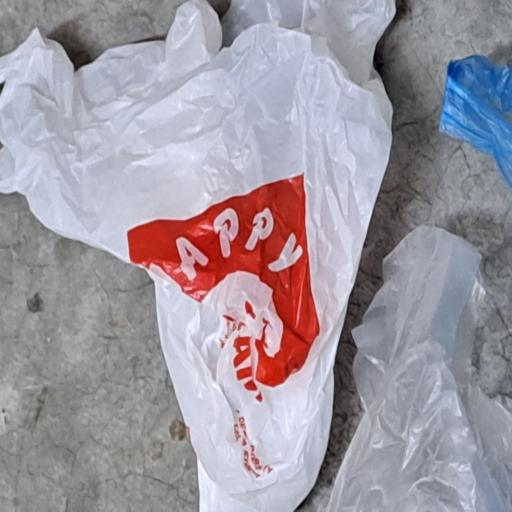plastic bag: (0, 0, 384, 512), (0, 437, 216, 512)
